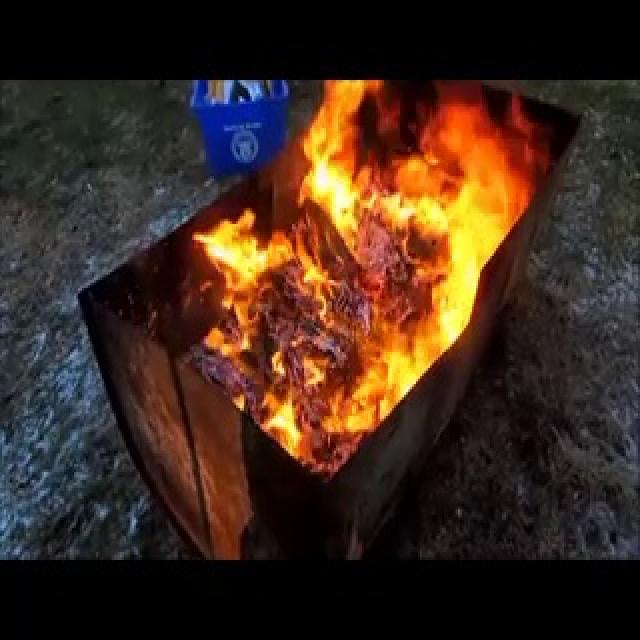Fire: (187, 82, 519, 484)
